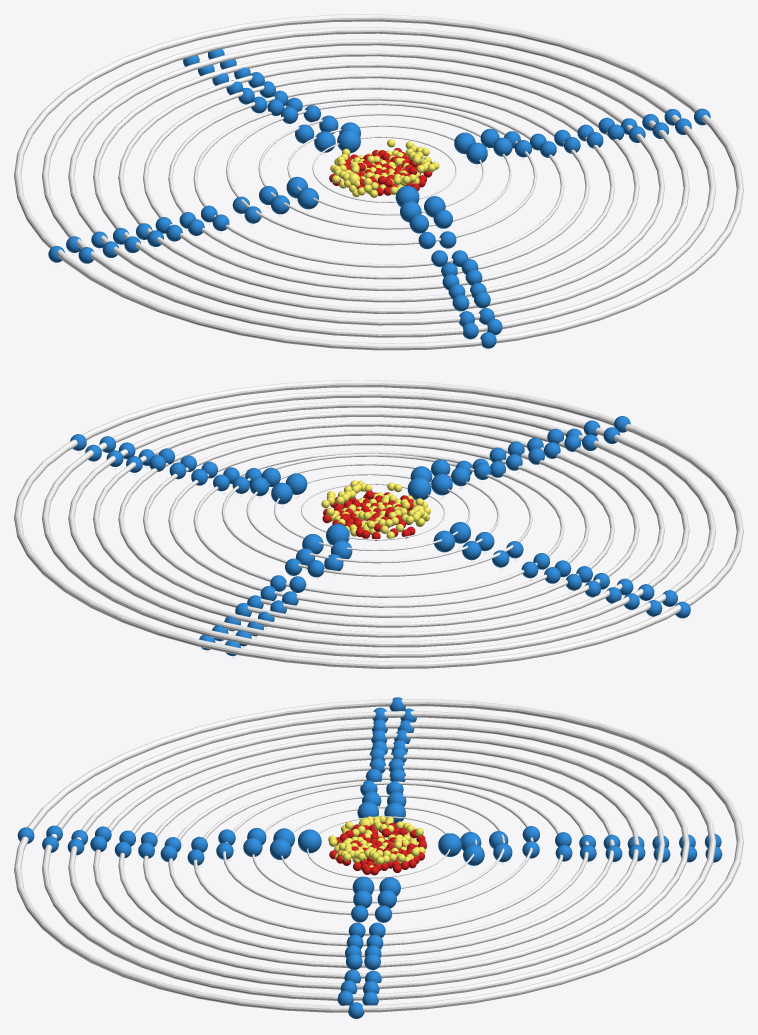
The picture shows the model from 3 angles, top to bottom: view 1: azimuth 30°, elevation 25°; view 2: azimuth 150°, elevation 25°; view 3: azimuth 270°, elevation 25°; orthographic projection.
Visible parts, largest first — view 1: Torus.012, Torus.011, Torus.010, Torus.009, Torus.008, Torus.007, Torus.006, Torus.005, Torus.004, Torus.003, Torus.002, Torus.001; view 2: Torus.012, Torus.011, Torus.010, Torus.009, Torus.008, Torus.007, Torus.006, Torus.005, Torus.004, Torus.003, Torus.002, Torus.001; view 3: Torus.012, Torus.011, Torus.010, Torus.009, Torus.008, Torus.007, Torus.006, Torus.005, Torus.004, Torus.003, Torus.002, Torus.001.
Boxes of the visible parts, left/top/right/bottom form: Torus.012: left=14, top=14, right=743, bottom=350; Torus.011: left=42, top=27, right=715, bottom=337; Torus.010: left=68, top=39, right=689, bottom=325; Torus.009: left=93, top=50, right=664, bottom=313; Torus.008: left=118, top=62, right=639, bottom=302; Torus.007: left=143, top=73, right=614, bottom=290; Torus.006: left=168, top=85, right=589, bottom=279; Torus.005: left=193, top=97, right=564, bottom=267; Torus.004: left=226, top=102, right=536, bottom=245; Torus.003: left=258, top=113, right=511, bottom=229; Torus.002: left=287, top=124, right=484, bottom=215; Torus.001: left=312, top=136, right=456, bottom=202; Torus.012: left=14, top=380, right=743, bottom=668; Torus.011: left=42, top=391, right=715, bottom=657; Torus.010: left=68, top=401, right=689, bottom=647; Torus.009: left=93, top=411, right=664, bottom=637; Torus.008: left=118, top=421, right=639, bottom=627; Torus.007: left=143, top=431, right=614, bottom=617; Torus.006: left=168, top=441, right=589, bottom=607; Torus.005: left=193, top=451, right=564, bottom=597; Torus.004: left=221, top=453, right=532, bottom=576; Torus.003: left=246, top=463, right=499, bottom=563; Torus.002: left=274, top=473, right=470, bottom=550; Torus.001: left=301, top=483, right=445, bottom=540; Torus.012: left=14, top=699, right=743, bottom=1012; Torus.011: left=42, top=711, right=715, bottom=1000; Torus.010: left=68, top=722, right=689, bottom=989; Torus.009: left=93, top=733, right=664, bottom=978; Torus.008: left=118, top=743, right=639, bottom=967; Torus.007: left=143, top=754, right=614, bottom=957; Torus.006: left=168, top=765, right=588, bottom=946; Torus.005: left=193, top=776, right=563, bottom=935; Torus.004: left=222, top=781, right=533, bottom=915; Torus.003: left=252, top=794, right=504, bottom=903; Torus.002: left=281, top=806, right=477, bottom=890; Torus.001: left=307, top=816, right=450, bottom=878.
Bounding box in the file's own units: 30.7 × 2.85 × 30.34.
